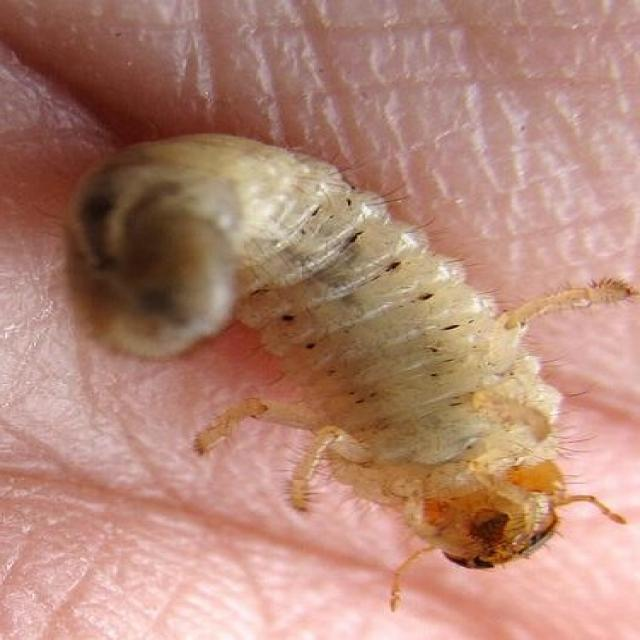grub: (85, 131, 590, 585)
